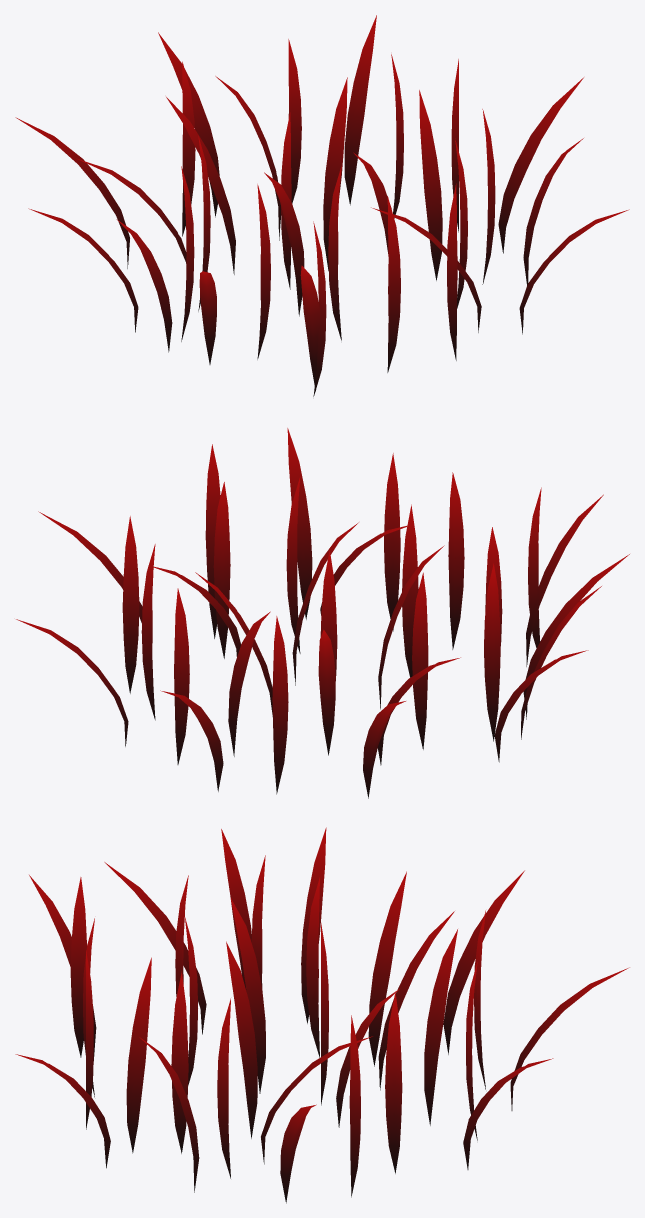
File: Stylised Grass.fbx
3 views of the same model, one above another, from view 1: azimuth 30°, elevation 25°; view 2: azimuth 150°, elevation 25°; view 3: azimuth 270°, elevation 25° (orthographic). The views are drawn at different scales.
Parts seen in each view (by area): view 1: Grass; view 2: Grass; view 3: Grass.
Boxes of the visible parts, left/top/right/bottom form: Grass: left=15, top=15, right=629, bottom=396; Grass: left=16, top=428, right=629, bottom=798; Grass: left=15, top=827, right=629, bottom=1203.
Bounding box in the file's own units: 3.9 × 1.2 × 3.67.
